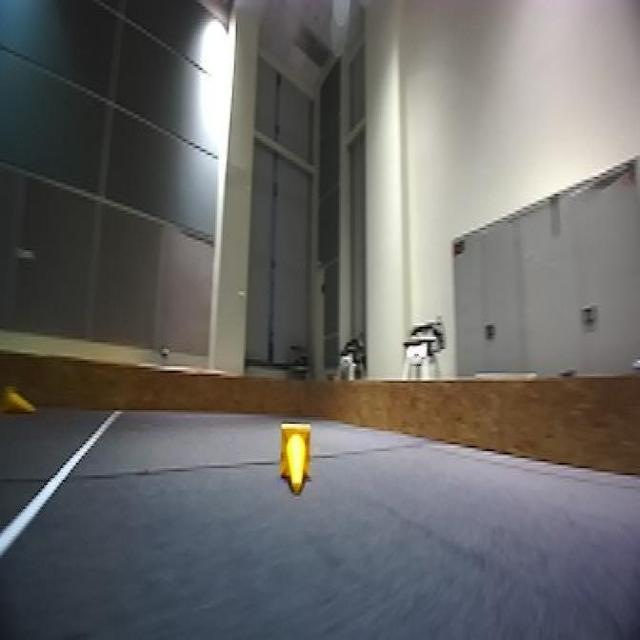frc_cone: (279, 422, 314, 492), (2, 381, 34, 419)
